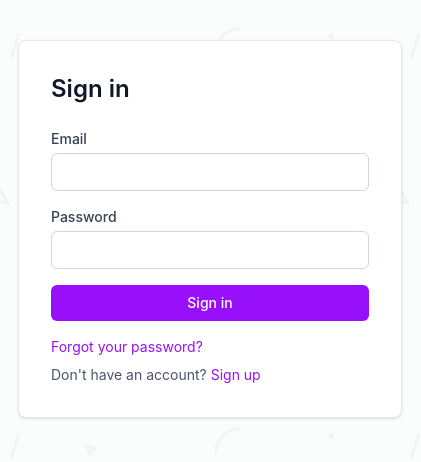
Test: LoginPage › валидация формы (zod) › пустая форма не уходит на сервер — обе ошибки показаны рядом с полями
Click the button "Sign in": click(210, 303) [51, 285, 369, 321]
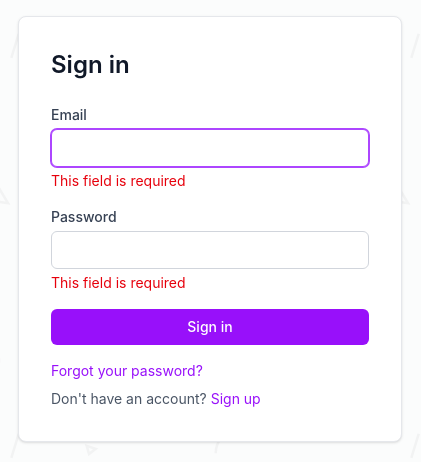
Check: the text "This field is required" is shown 2 times, box [51, 172, 186, 189]; [51, 274, 186, 291]
